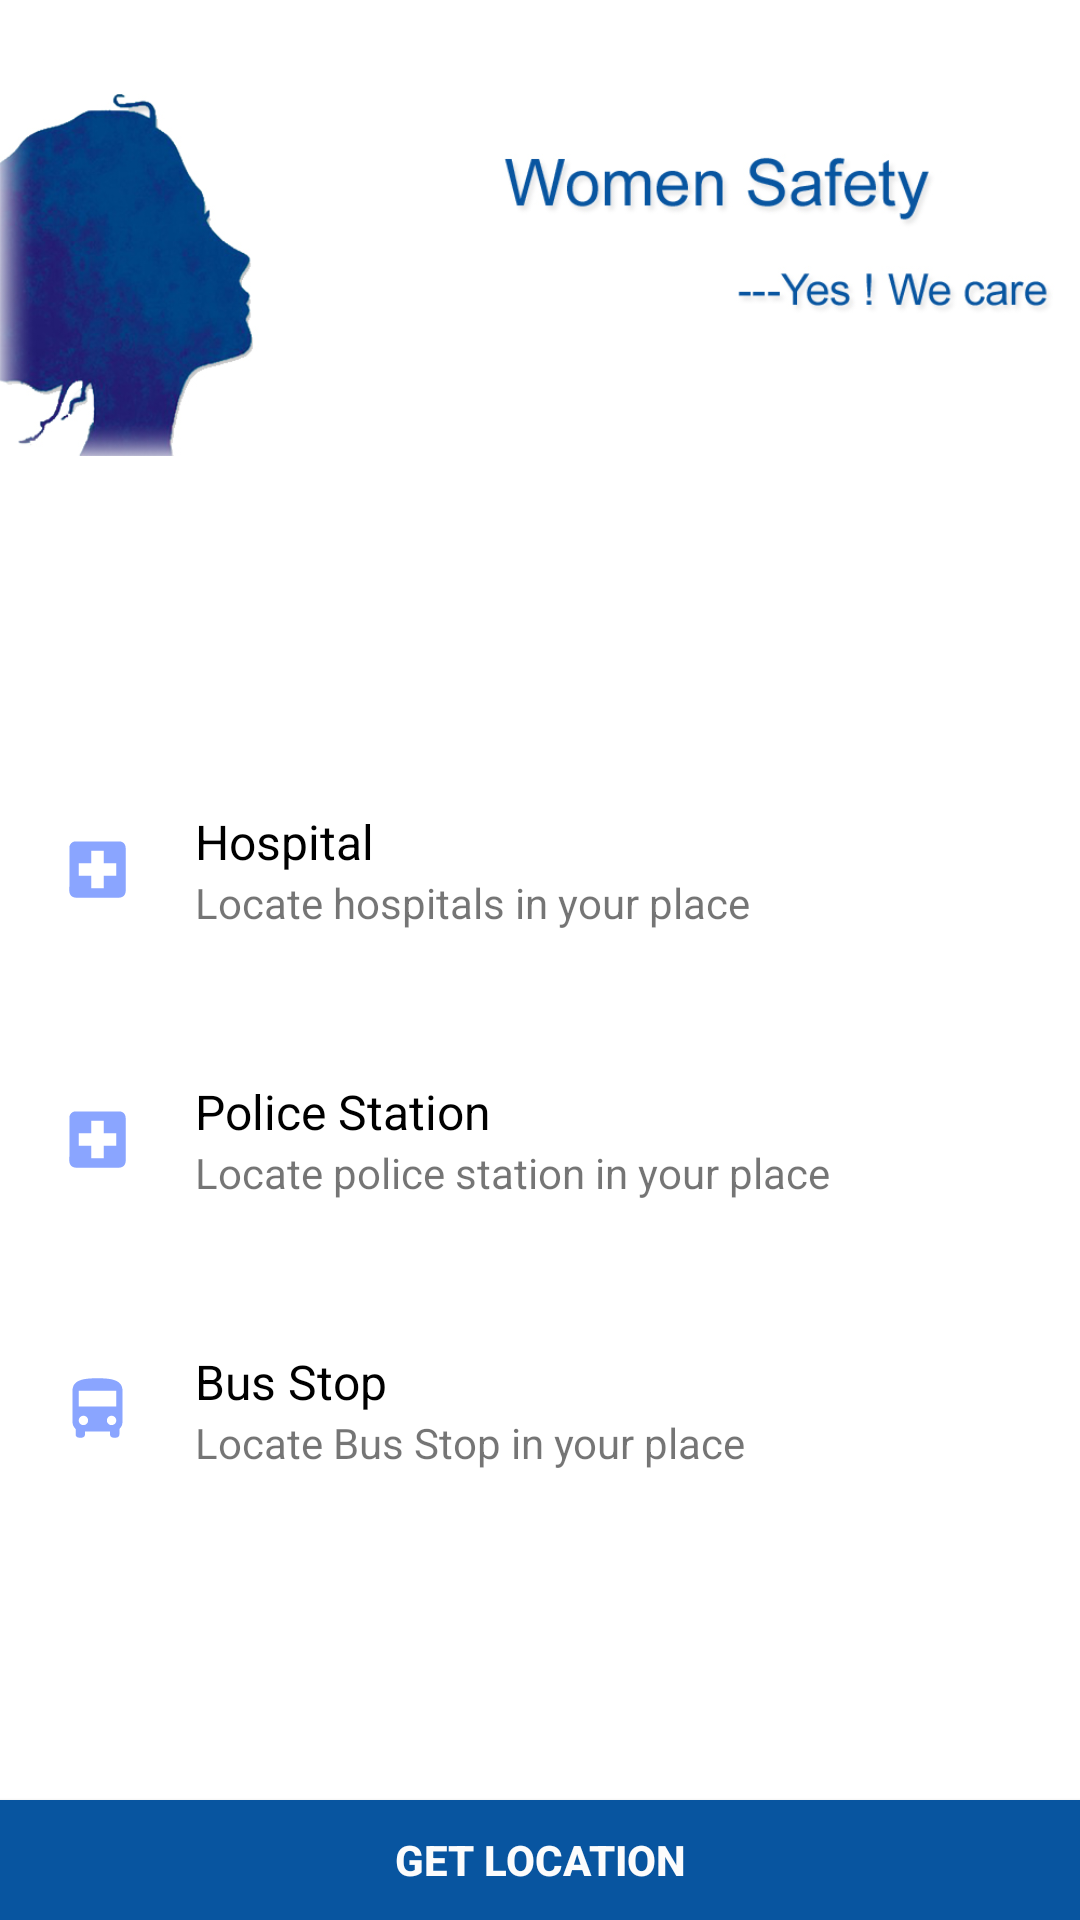

Named icons in this screenshot (1080×1920) and their centers, (x,y):
directions bus: (97,1408)
